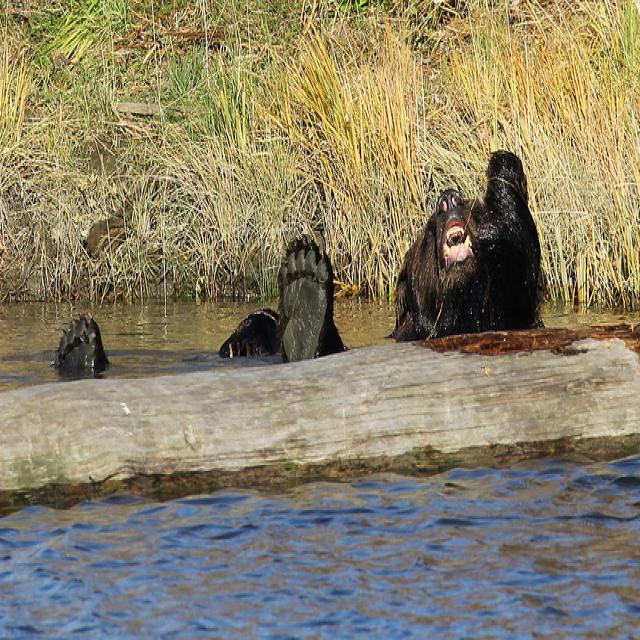Bear: (54, 144, 552, 367)
